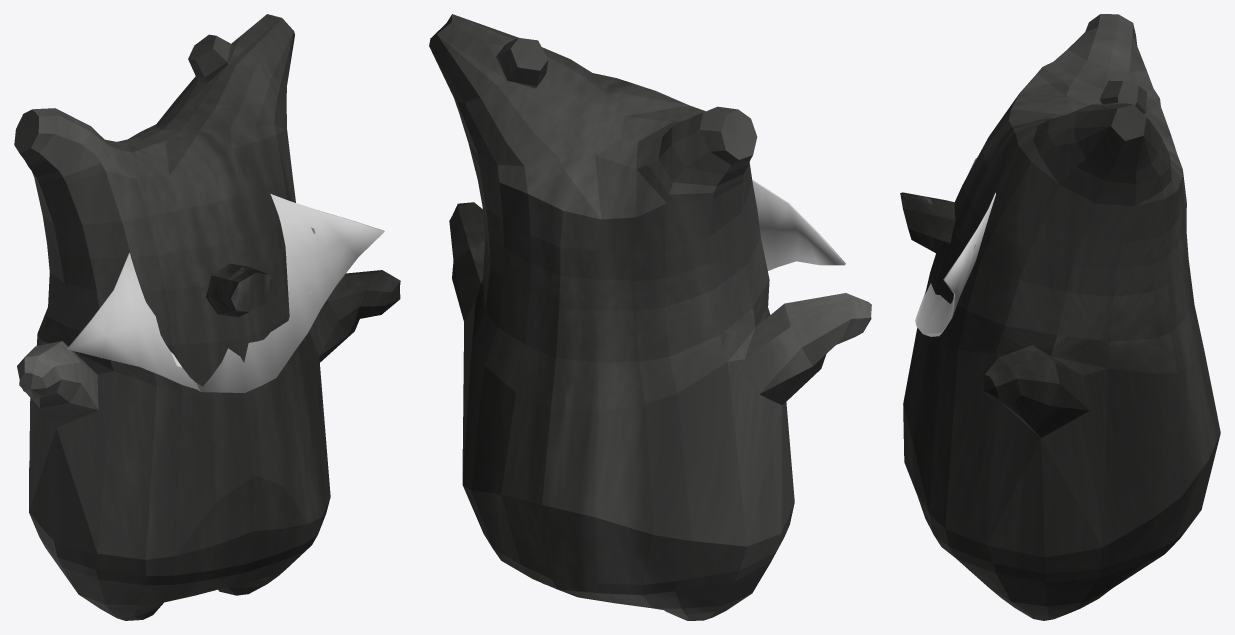
Rendered from frame_0011.obj.
3 renders of one model, left to right at view 1: azimuth 30°, elevation 25°; view 2: azimuth 150°, elevation 25°; view 3: azimuth 270°, elevation 25°, orthographic. The views are drawn at different scales.
Visible parts, largest first — view 1: korok, leaf, nose; view 2: korok, leaf; view 3: korok, leaf, nose.
Part boxes in pixels (x1,y1,x2,y2): korok: (14, 14, 400, 620); leaf: (67, 194, 384, 392); nose: (206, 263, 273, 317); korok: (429, 14, 871, 620); leaf: (752, 180, 845, 270); korok: (903, 14, 1220, 620); leaf: (915, 158, 995, 336); nose: (900, 192, 955, 255).
Bounding box in the file's own units: 1.66 × 2.21 × 1.17.
